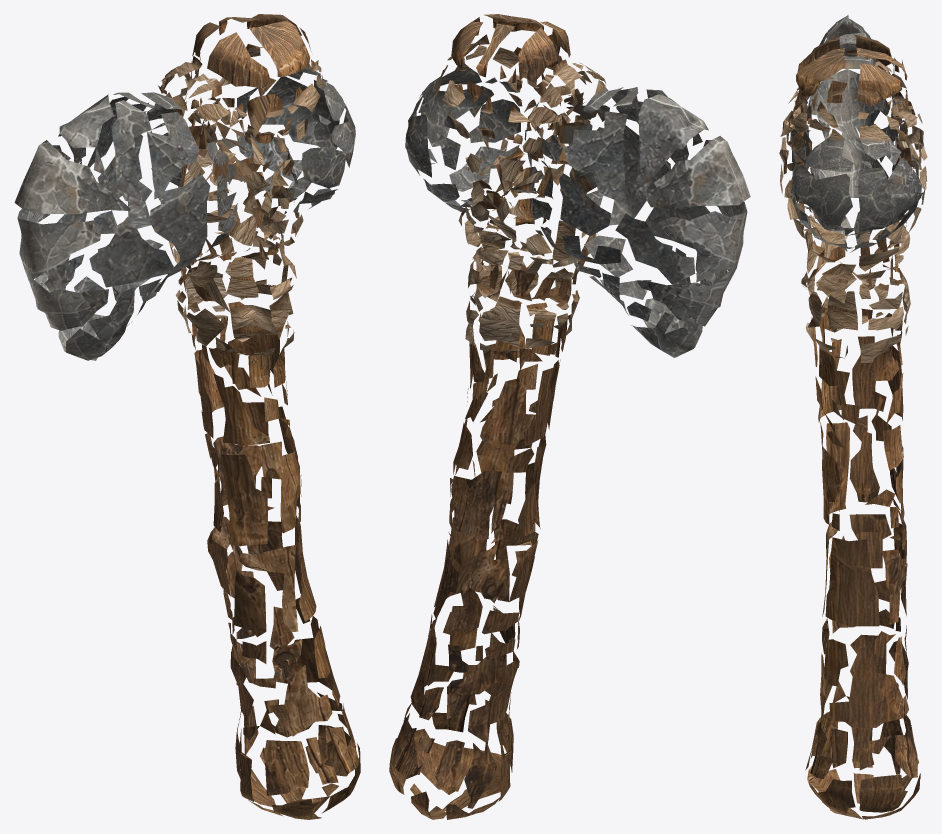
The model's file is steinaxt_3.glb.
3 views of the same model, side by side, from view 1: azimuth 30°, elevation 25°; view 2: azimuth 150°, elevation 25°; view 3: azimuth 270°, elevation 25° (orthographic). The views are drawn at different scales.
Size of the model in its own units: 0.8445 by 1.9 by 0.3429.
1 material, 1 textured.
